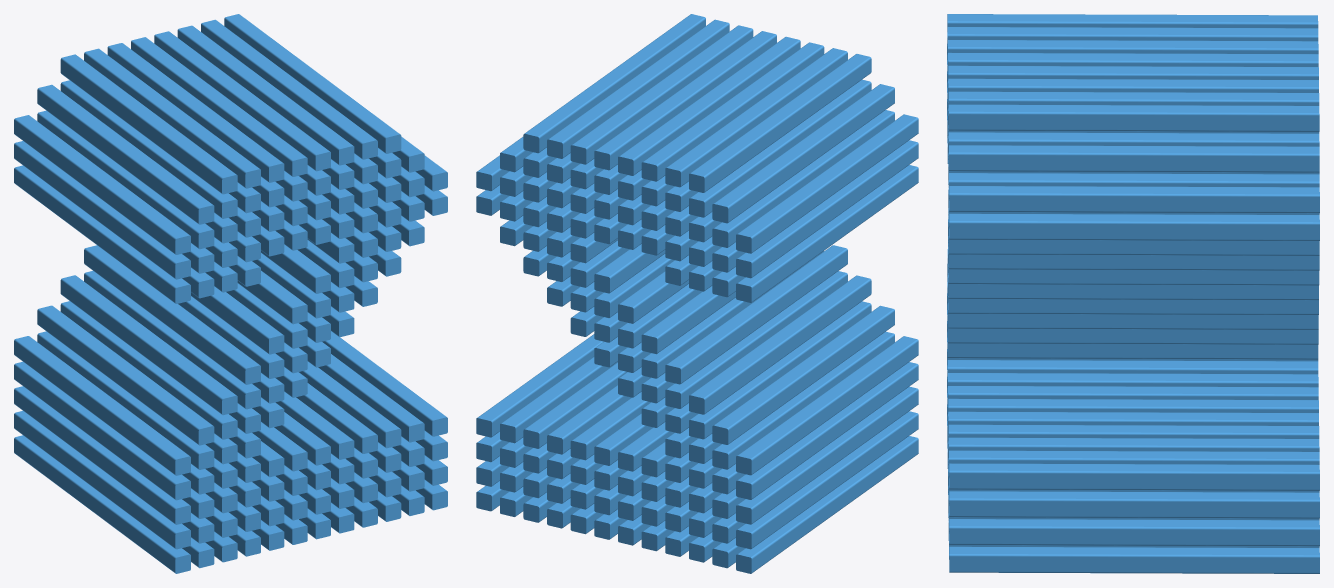
3 renders of one model, left to right at view 1: azimuth 30°, elevation 25°; view 2: azimuth 150°, elevation 25°; view 3: azimuth 270°, elevation 25°, orthographic. The views are drawn at different scales.
Visible parts, largest first — view 1: 2; view 2: 2; view 3: 2.
Part boxes in pixels (x1,y1,x2,y2): 2: (14, 14, 447, 573); 2: (476, 14, 918, 573); 2: (947, 14, 1319, 573).
Size of the model in its own units: 6.14 by 8.17 by 6.35.
